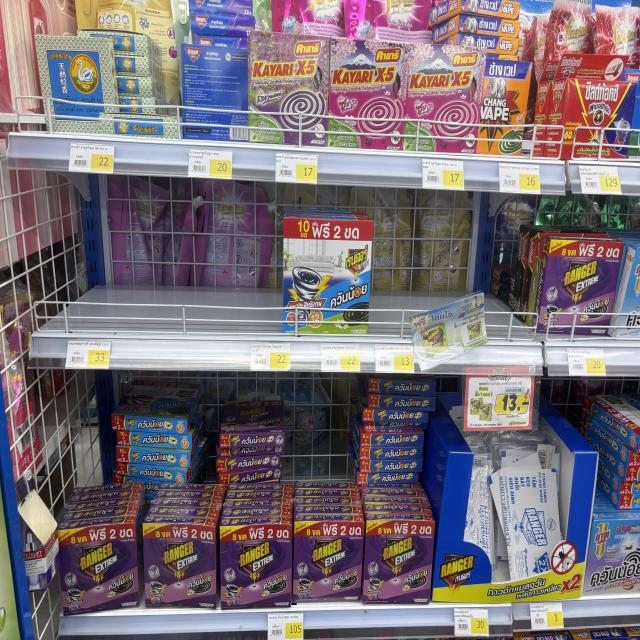empty_shelf: (52, 370, 438, 526), (34, 175, 283, 336), (369, 187, 537, 341)
